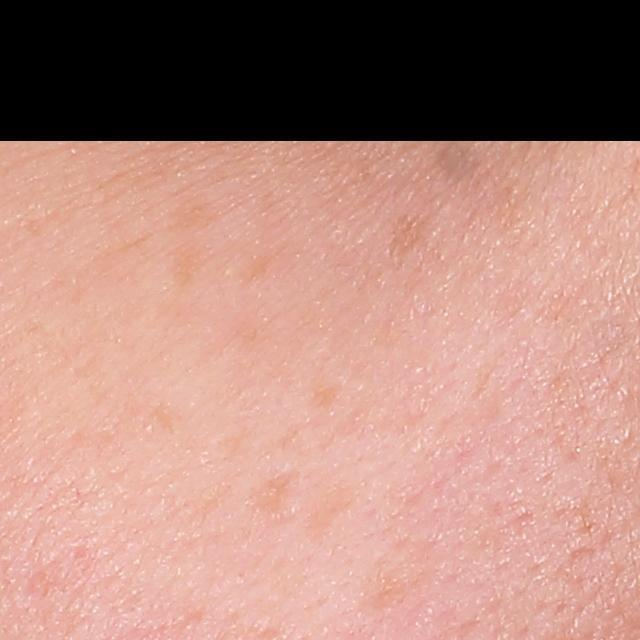melasma: (247, 461, 308, 521), (383, 214, 428, 264), (170, 239, 210, 291), (166, 193, 220, 231)
